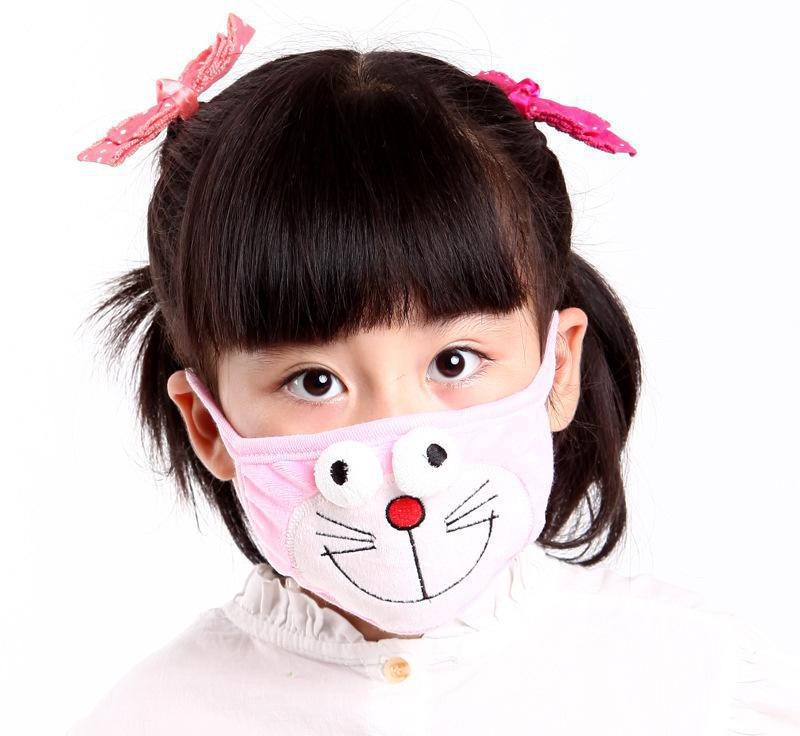OK: (222, 288, 552, 627)
